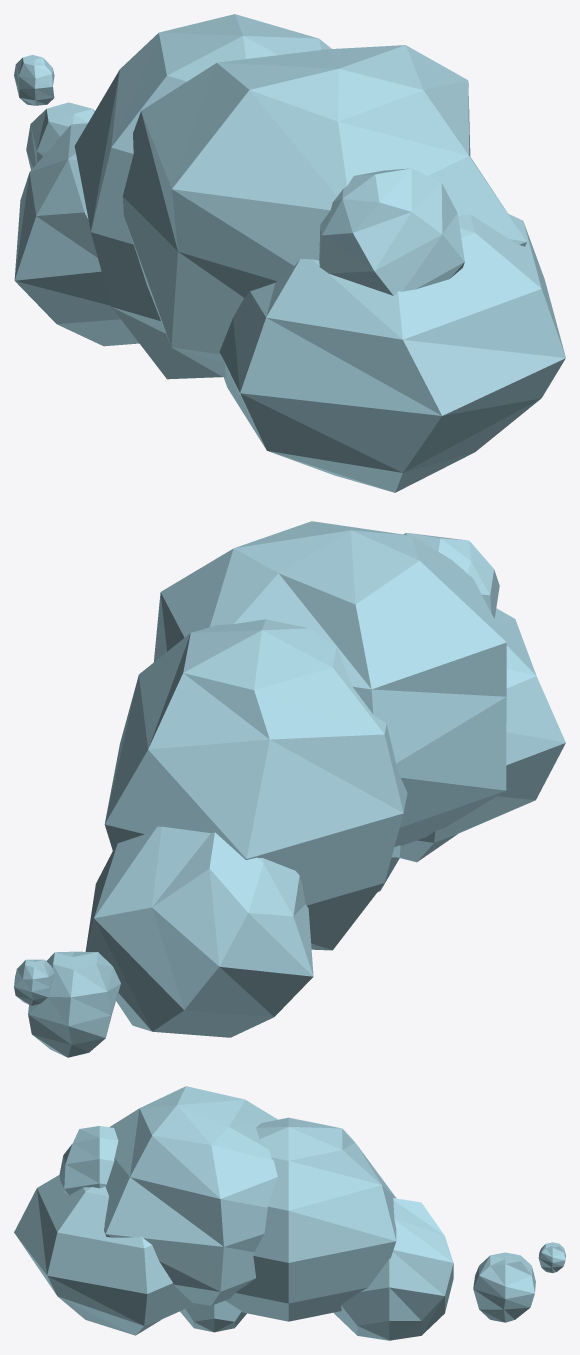
Rendered from fbxCloud 1.fbx.
3 renders of one model, top to bottom at view 1: azimuth 30°, elevation 25°; view 2: azimuth 150°, elevation 25°; view 3: azimuth 270°, elevation 25°, orthographic. The views are drawn at different scales.
Parts seen in each view (by area): view 1: pSphere11; view 2: pSphere11; view 3: pSphere11.
Boxes of the visible parts, x1,y1,x2,y2 form: pSphere11: (14, 14, 565, 492); pSphere11: (14, 521, 565, 1057); pSphere11: (14, 1086, 565, 1340).
Bounding box in the file's own units: 5.8 × 6.42 × 13.69.
